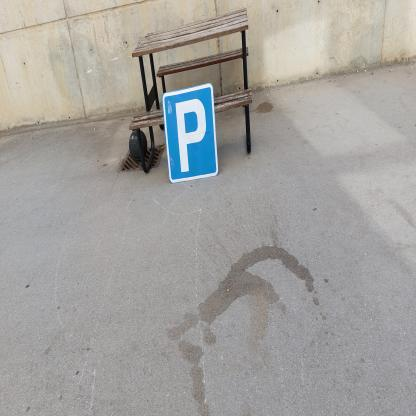parking: (162, 82, 218, 184)
